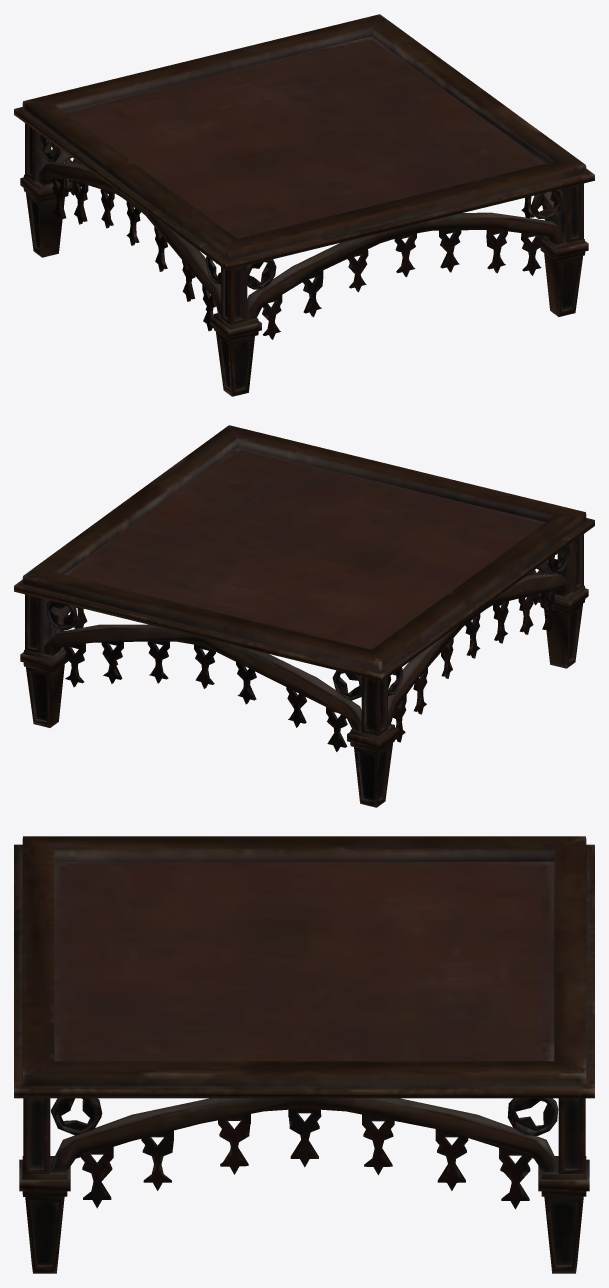
Rendered from gothic_coffee_table.glb.
The picture shows the model from 3 angles, top to bottom: view 1: azimuth 30°, elevation 25°; view 2: azimuth 150°, elevation 25°; view 3: azimuth 270°, elevation 25°; orthographic projection. The views are drawn at different scales.
Visible parts, largest first — view 1: gothic_coffee_table; view 2: gothic_coffee_table; view 3: gothic_coffee_table.
Part boxes in pixels (x1,y1,x2,y2): gothic_coffee_table: (14,14,594,396); gothic_coffee_table: (14,425,594,807); gothic_coffee_table: (14,836,594,1273).
Bounding box in the file's own units: 1.44 × 0.5569 × 1.44.
1 material, 1 textured.
